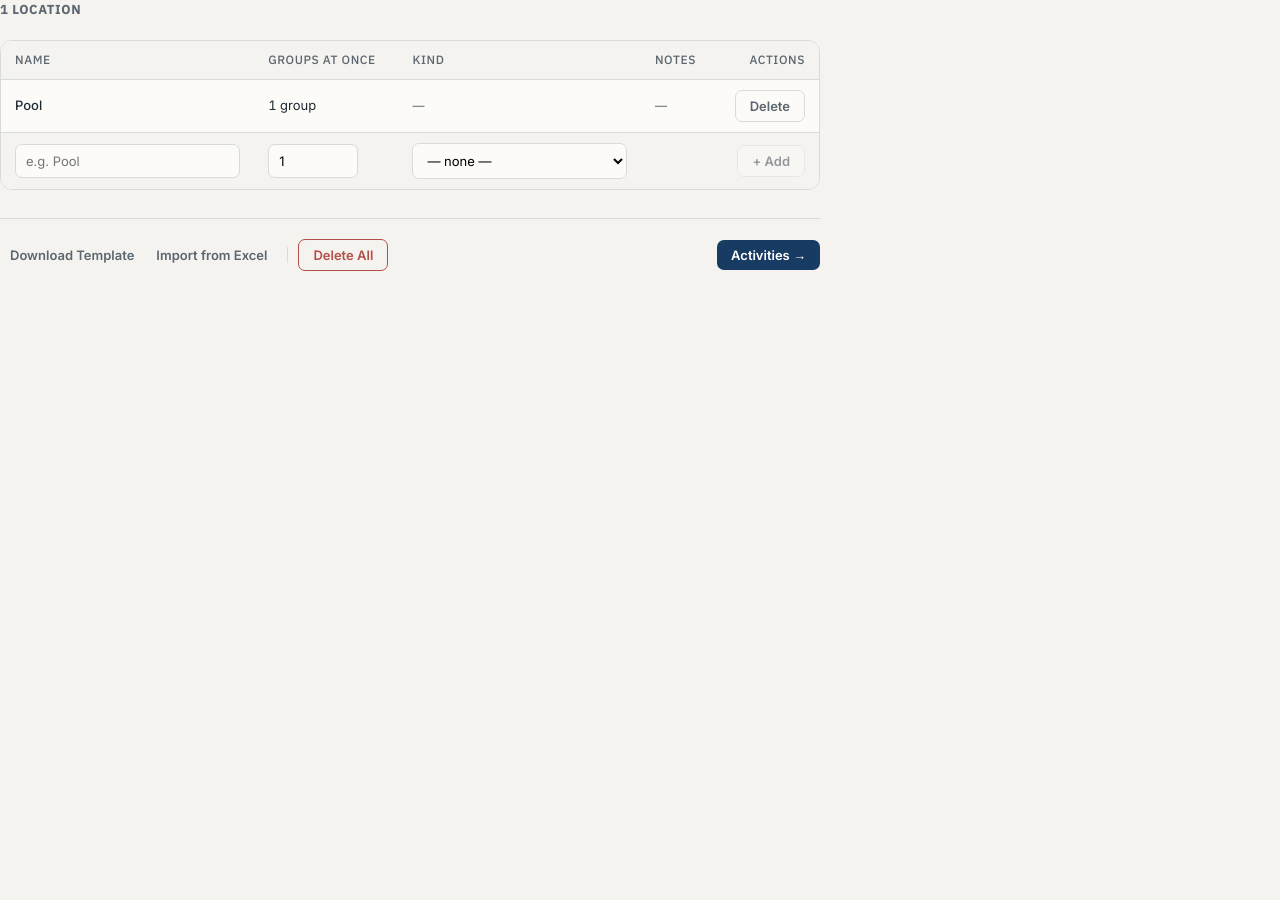
Test: LocationsScreen › shows honest copy when nothing is bound to the location
This screenshot has width=1280, height=900.
expect the button "Pool" is shown: met, box [15,97,42,113]
Click the button "Delete" at (770, 106), box [735,90,805,122]
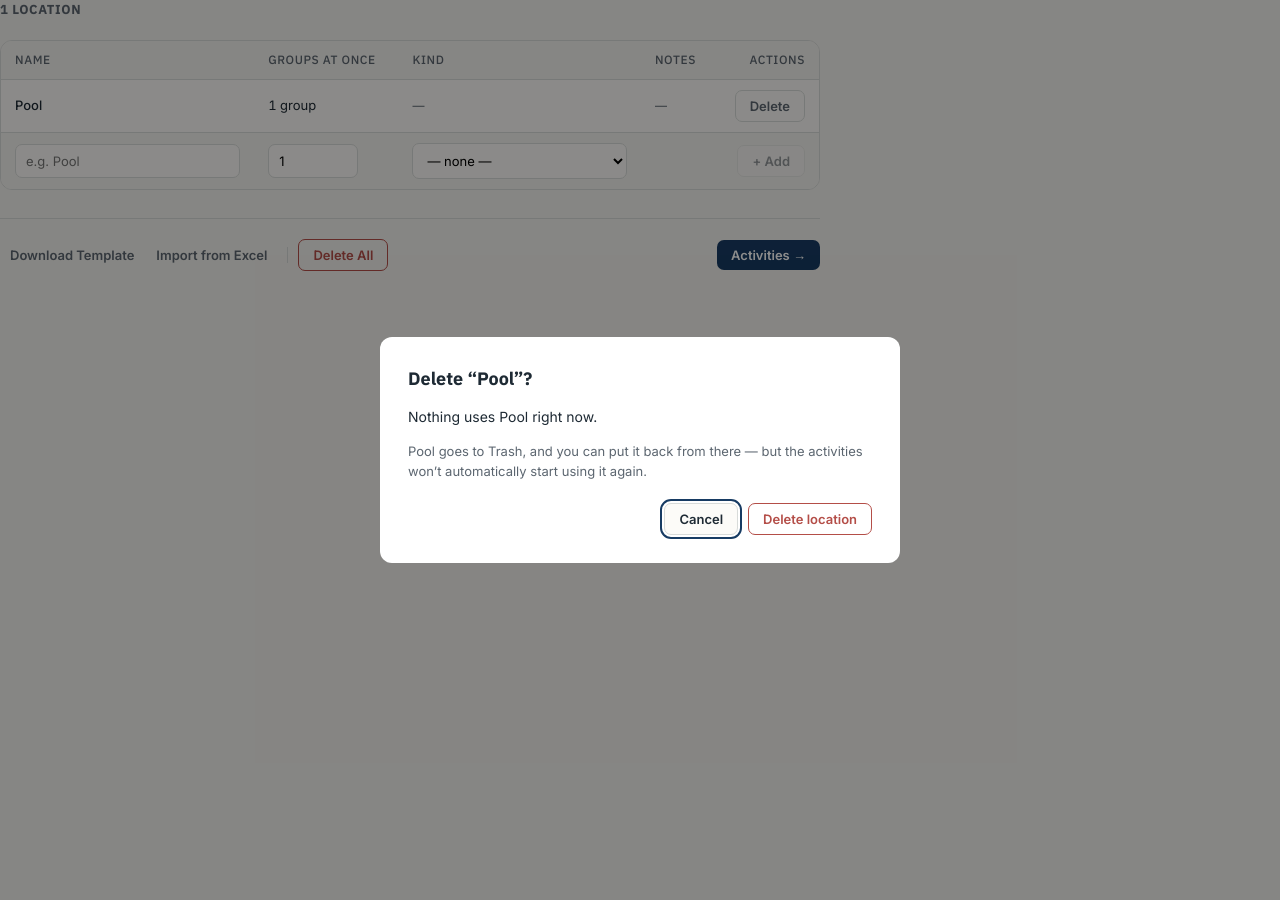
expect the text "Nothing uses Pool right now." is shown: met, box [408,408,597,424]
